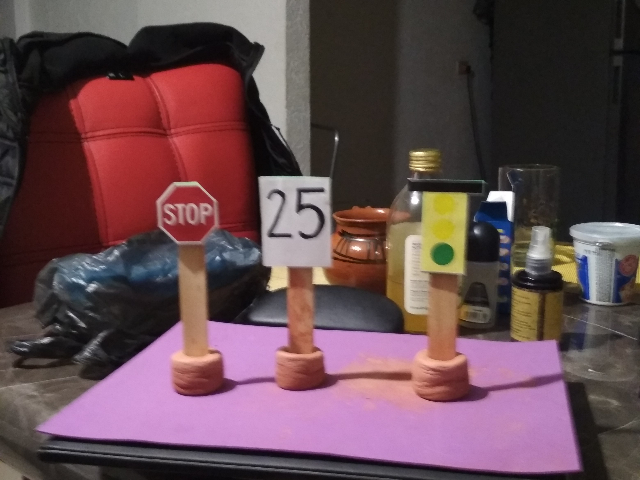Green: (402, 172, 492, 281)
Limit 25: (251, 167, 340, 274)
Stop: (150, 177, 222, 250)
